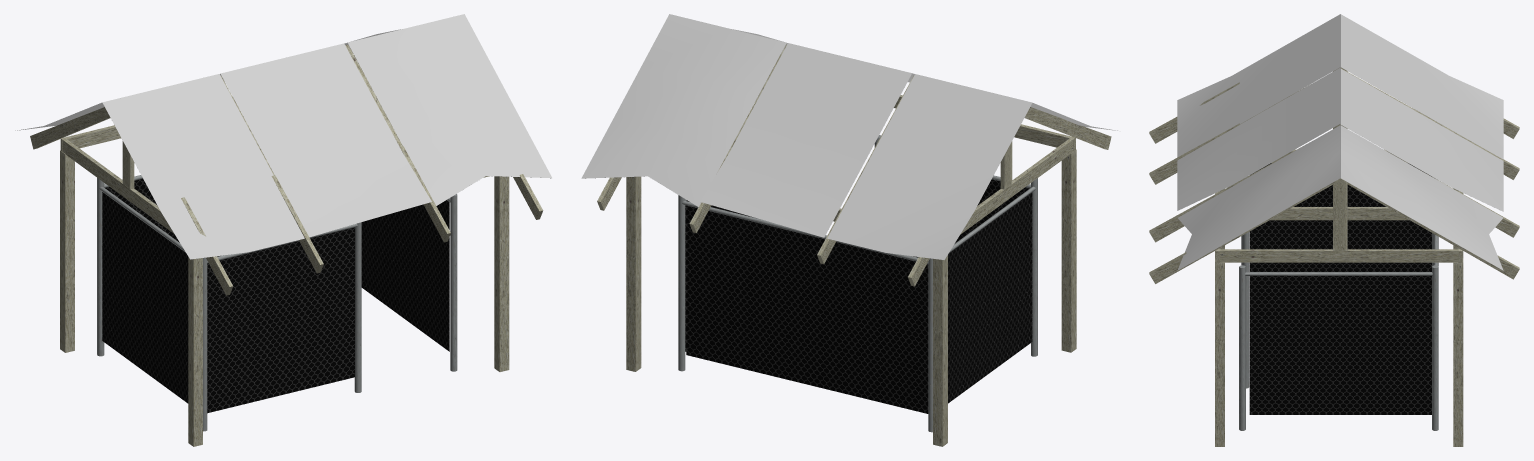
The model's file is Kennel01.dae.
The picture shows the model from 3 angles, left to right: view 1: azimuth 30°, elevation 25°; view 2: azimuth 150°, elevation 25°; view 3: azimuth 270°, elevation 25°; orthographic projection. The views are drawn at different scales.
Visible parts, largest first — view 1: KennelOne256; view 2: KennelOne256; view 3: KennelOne256.
Part boxes in pixels (x1,y1,x2,y2): KennelOne256: (15,14,551,446); KennelOne256: (581,14,1117,446); KennelOne256: (1149,14,1519,446).
Size of what is drawn, in the model's own units: 5.72 by 5.46 by 4.56.
